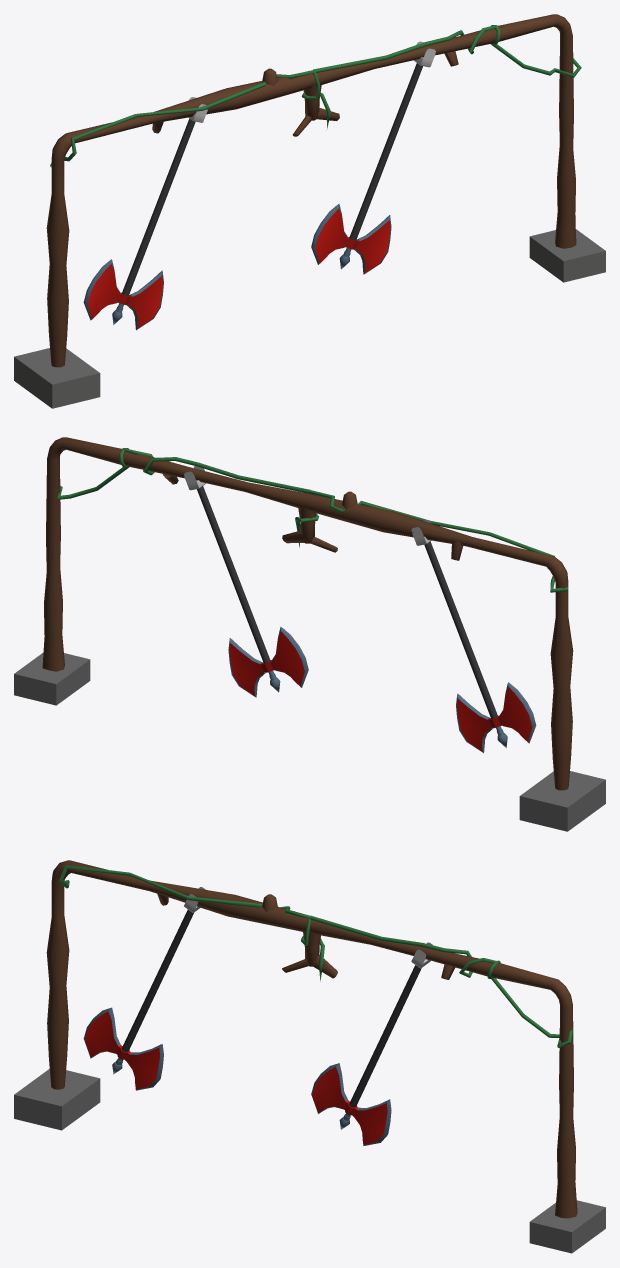
File: sarkacL.fbx
3 views of the same model, one above another, from view 1: azimuth 30°, elevation 25°; view 2: azimuth 150°, elevation 25°; view 3: azimuth 330°, elevation 25° (orthographic).
Visible parts, largest first — view 1: sarkacL, baltaL, baltaL1; view 2: sarkacL, baltaL, baltaL1; view 3: sarkacL, baltaL, baltaL1.
Boxes of the visible parts, x1,y1,x2,y2 form: sarkacL: (14,14,605,408); baltaL: (311,41,435,274); baltaL1: (83,97,207,330); sarkacL: (14,437,605,831); baltaL: (184,466,308,697); baltaL1: (411,520,536,753); sarkacL: (14,860,605,1253); baltaL: (311,942,433,1145); baltaL1: (83,887,205,1090).
Bounding box in the file's own units: 1236 × 569 × 148.
